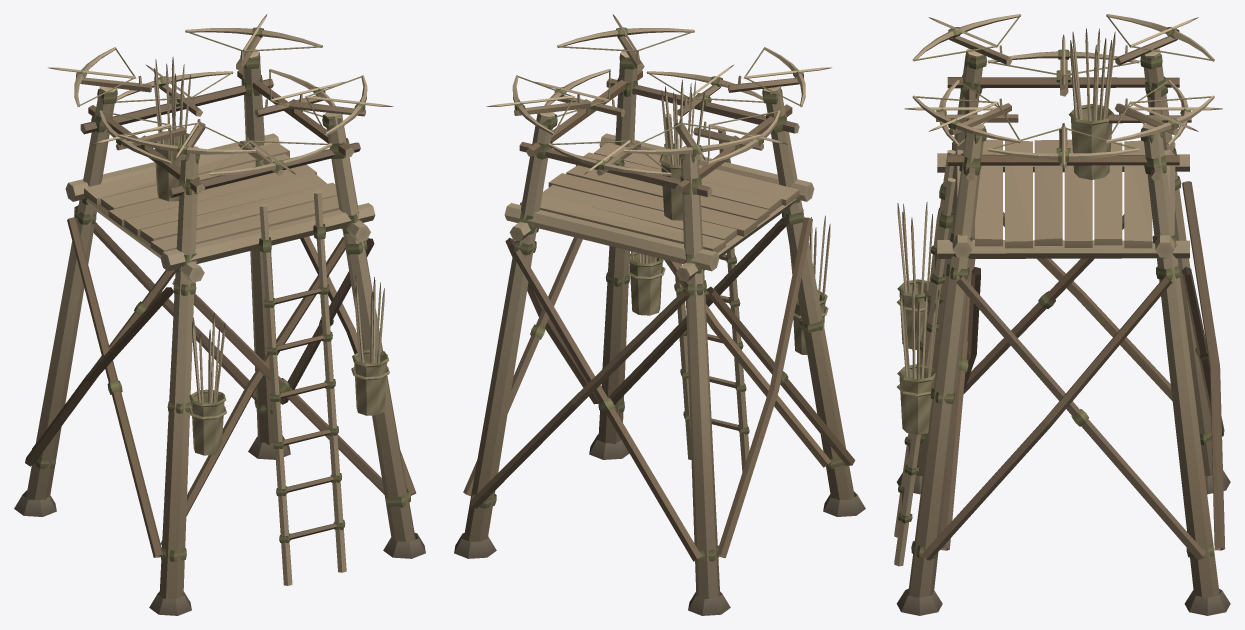
The model's file is bow_tower_a.glb.
3 renders of one model, left to right at view 1: azimuth 30°, elevation 25°; view 2: azimuth 150°, elevation 25°; view 3: azimuth 270°, elevation 25°, orthographic. The views are drawn at different scales.
Parts seen in each view (by area): view 1: Base, Store2, Store3, Quiver, Bow5, Bow1, Bow4, Bow0, Bow6, Bow3, Bow7; view 2: Base, Quiver, Store3, Store2, Bow7, Bow3, Bow0, Bow4, Bow6, Bow1, Bow5; view 3: Base, Quiver, Store3, Store2, Bow2, Bow3, Bow1, Bow7, Bow5, Bow6.
Part boxes in pixels (x1,y1,x2,y2): Base: (14,36,425,615); Store2: (167,313,226,455); Store3: (351,275,389,415); Quiver: (153,57,190,201); Bow5: (118,123,256,154); Bow1: (185,27,322,51); Bow4: (208,140,332,175); Bow0: (116,71,233,102); Bow6: (99,110,172,164); Bow3: (305,75,367,135); Bow7: (74,47,135,107); Base: (454,36,865,615); Quiver: (659,79,704,220); Store3: (605,251,665,315); Store2: (789,215,830,354); Bow7: (623,123,761,154); Bow3: (557,27,694,51); Bow0: (547,140,671,175); Bow4: (646,71,763,102); Bow6: (707,110,780,164); Bow1: (512,75,574,135); Bow5: (744,47,805,107); Base: (894,36,1230,615); Quiver: (1068,28,1115,179); Store3: (897,284,956,434); Store2: (896,202,944,349); Bow2: (987,127,1139,162); Bow3: (912,95,1021,143); Bow1: (1106,95,1214,143); Bow7: (1106,14,1214,61); Bow5: (912,14,1021,61); Bow6: (987,49,1139,75).
Bounding box in the file's own units: 1.9 × 3.1 × 1.92.
